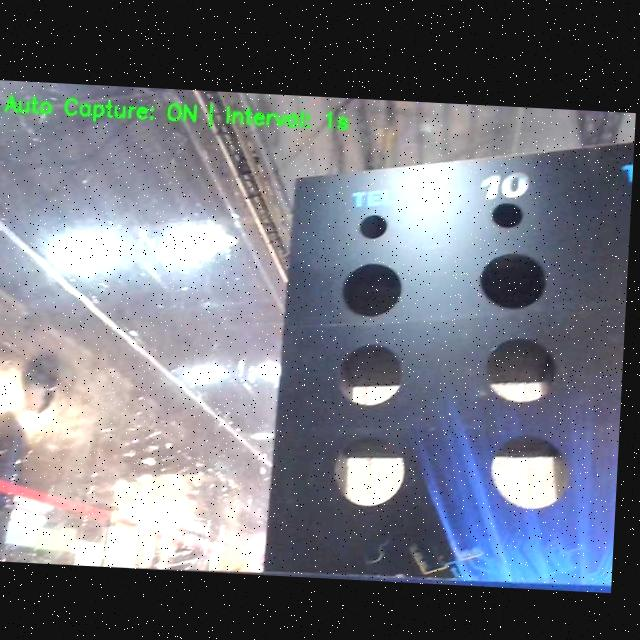hole: (490, 433, 572, 511), (335, 433, 406, 508), (484, 336, 556, 402), (338, 342, 404, 407), (480, 252, 547, 311), (342, 262, 401, 317), (492, 202, 524, 229), (359, 214, 388, 240)
